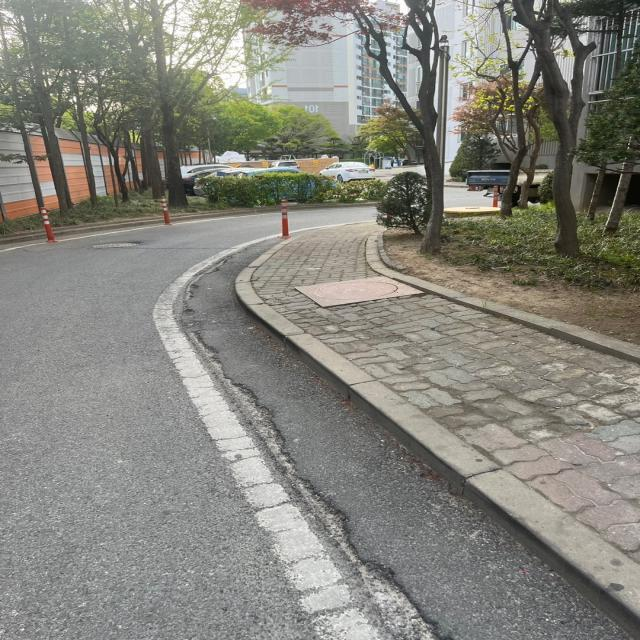Sewer Cover: (273, 274, 417, 313), (78, 237, 160, 259)
